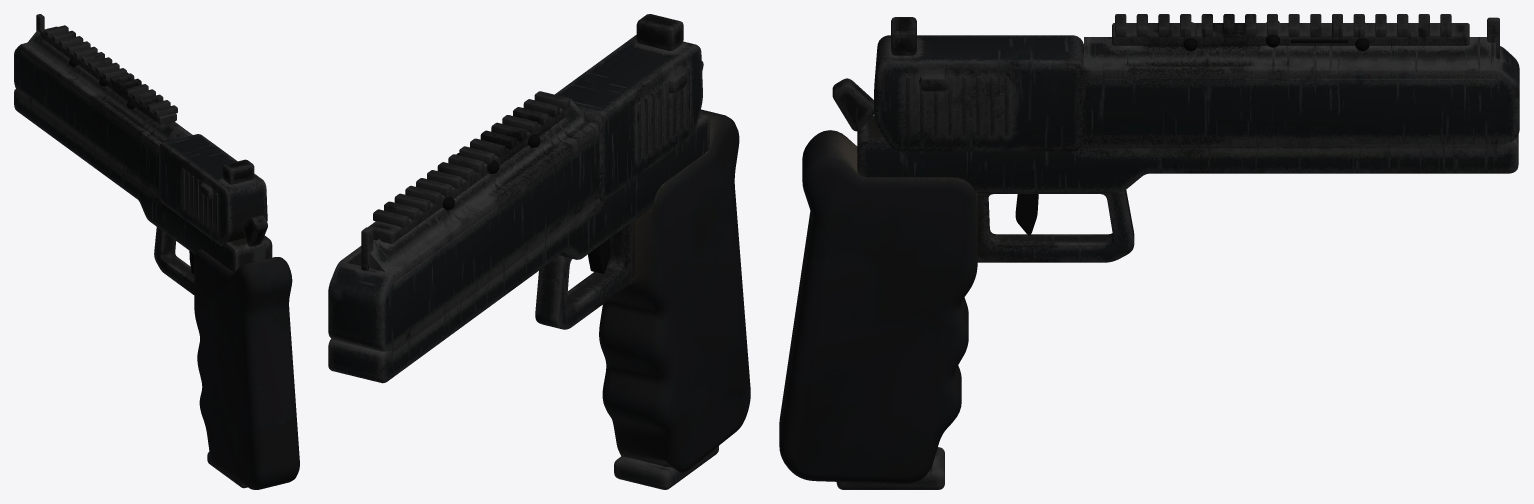
Rendered from deagle.glb.
3 views of the same model, side by side, from view 1: azimuth 30°, elevation 25°; view 2: azimuth 150°, elevation 25°; view 3: azimuth 270°, elevation 25° (orthographic). The views are drawn at different scales.
Visible parts, largest first — view 1: body_receiver, body_metal, slide_receiver; view 2: body_receiver, body_metal, slide_receiver, mag_receiver; view 3: body_receiver, body_metal, slide_receiver, mag_receiver.
Boxes of the visible parts, x1,y1,x2,y2 form: body_receiver: (14, 14, 272, 294); body_metal: (69, 57, 299, 489); slide_receiver: (159, 134, 267, 245); body_receiver: (328, 61, 709, 383); body_metal: (442, 109, 750, 472); slide_receiver: (555, 14, 702, 201); mag_receiver: (614, 446, 718, 489); body_receiver: (832, 14, 1519, 262); body_metal: (779, 21, 1369, 484); slide_receiver: (874, 17, 1083, 151); mag_receiver: (836, 447, 944, 489).
Size of the model in its own units: 0.04 by 0.234 by 0.3415.
4 materials, 4 textured.
